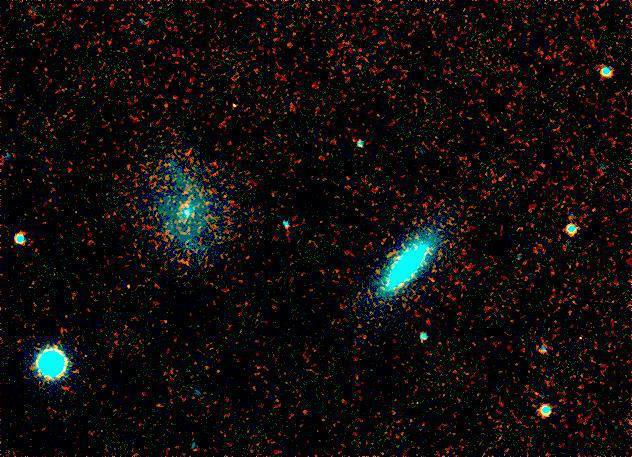star: (298, 392, 328, 422)
